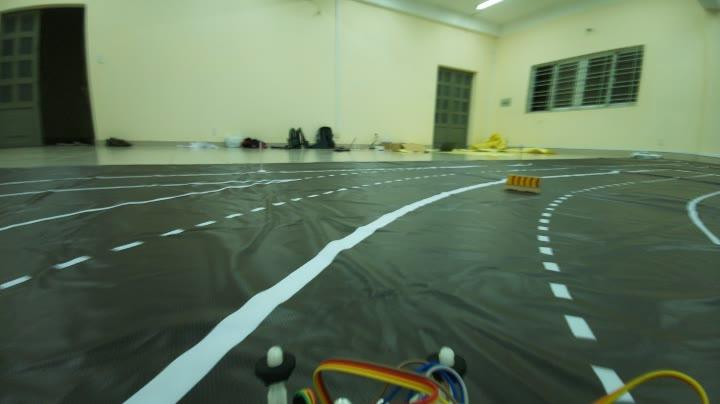roadblock: (502, 170, 542, 197)
